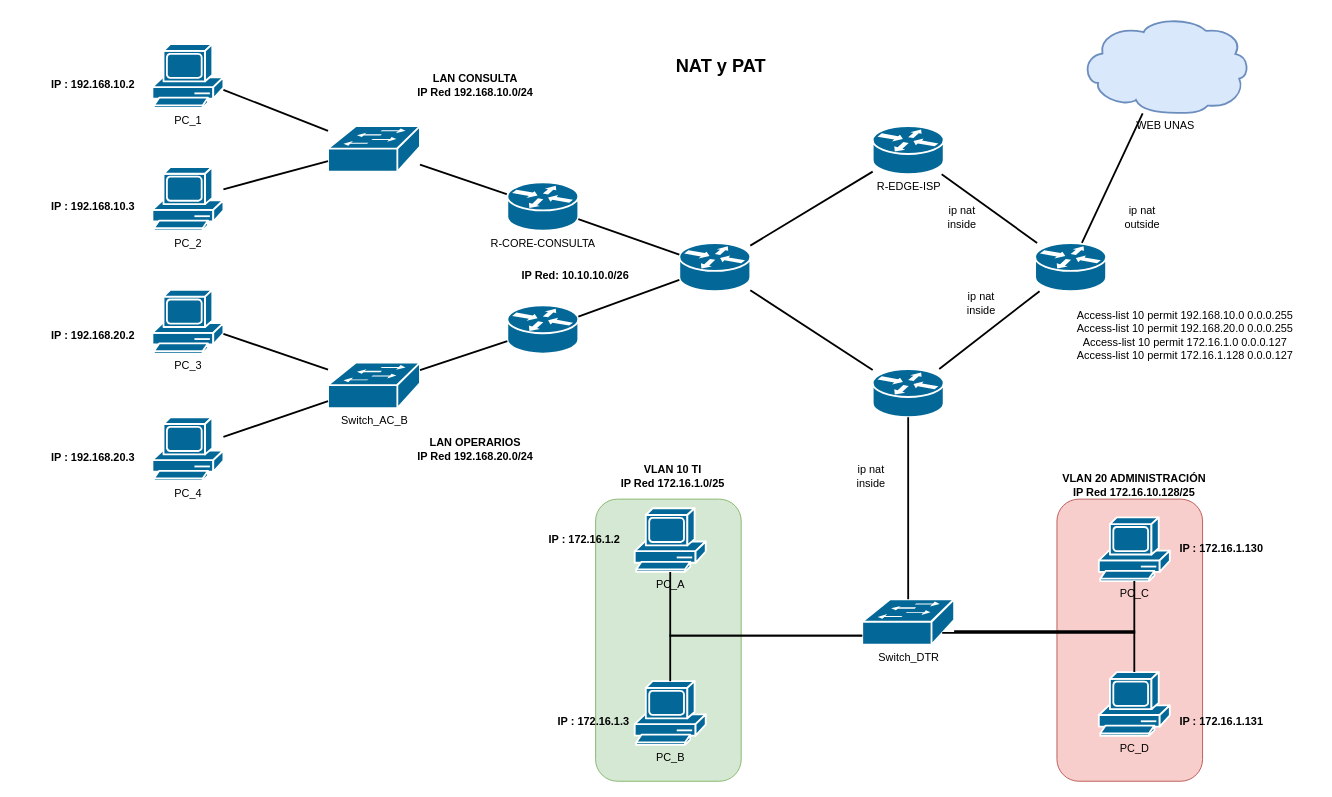
This 1332x797 diagram has some shape labels left out. The centre of each missing label's shape, as x and y in pixels:
ABR: pixel 1070 267
R-ASBR-BGP: pixel 714 267
R-CORE-OPERARIOS: pixel 542 329
R-CORE-VLANs: pixel 907 393
Switch_AC_A: pixel 373 148
